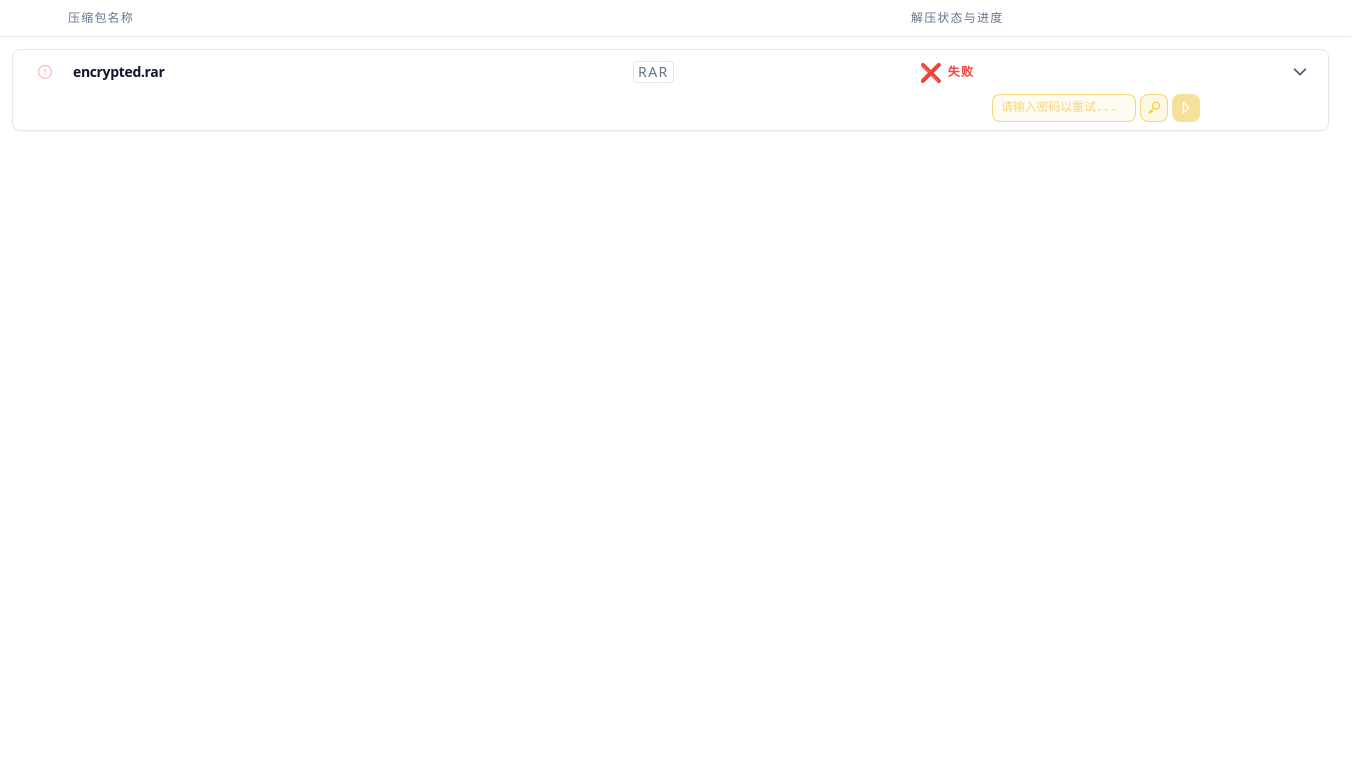
Scenario: AeroTable › keeps expanded password recovery controls inside a narrow config column
Click the button with test id "task-row". click: [119, 72]
box: [12, 49, 1329, 131]
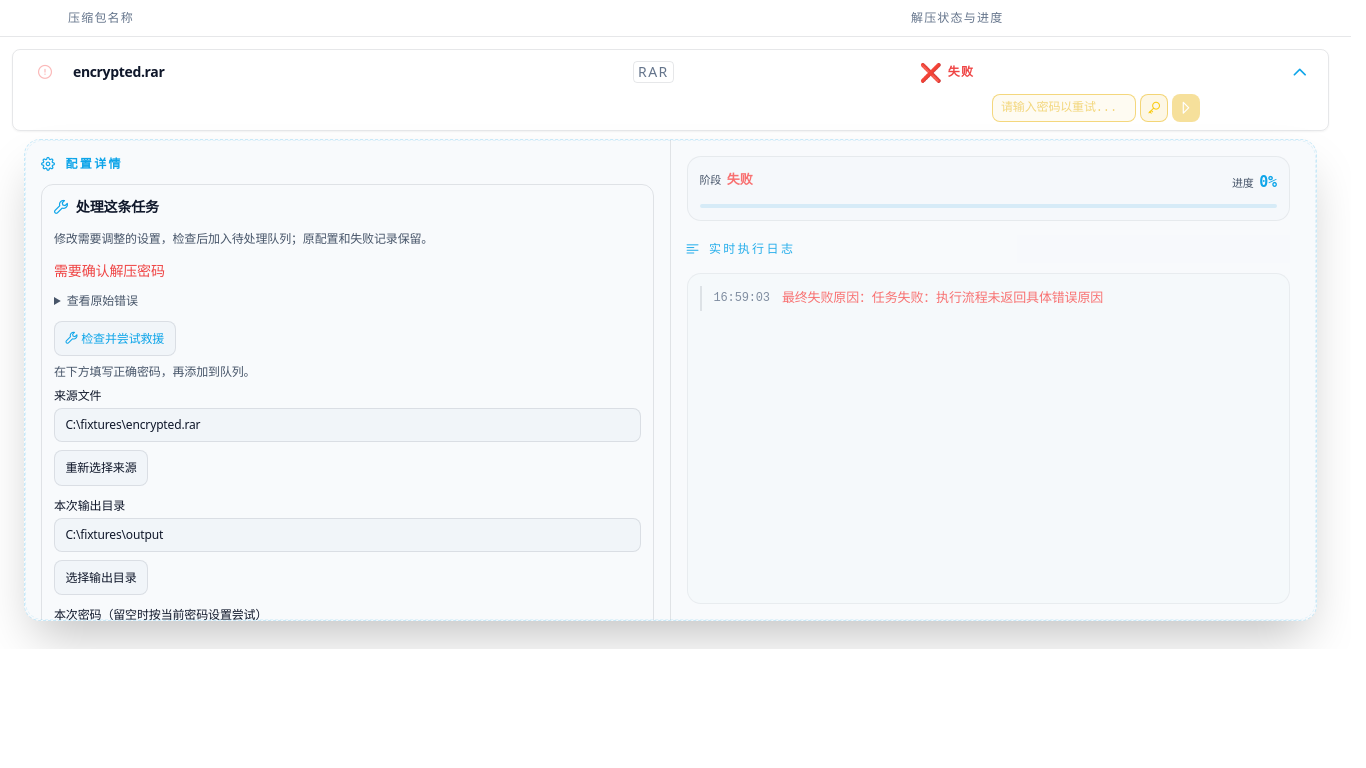
Result: the element with test id "inline-extraction-recovery" is shown at [41, 184, 654, 620]
Result: the element with class "retry-fields" is shown at [54, 388, 640, 620]
